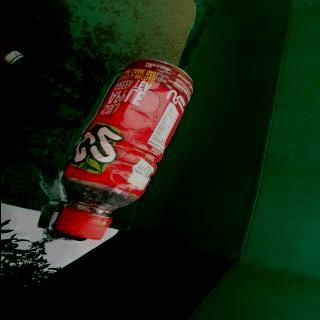bottle: (53, 58, 194, 242)
